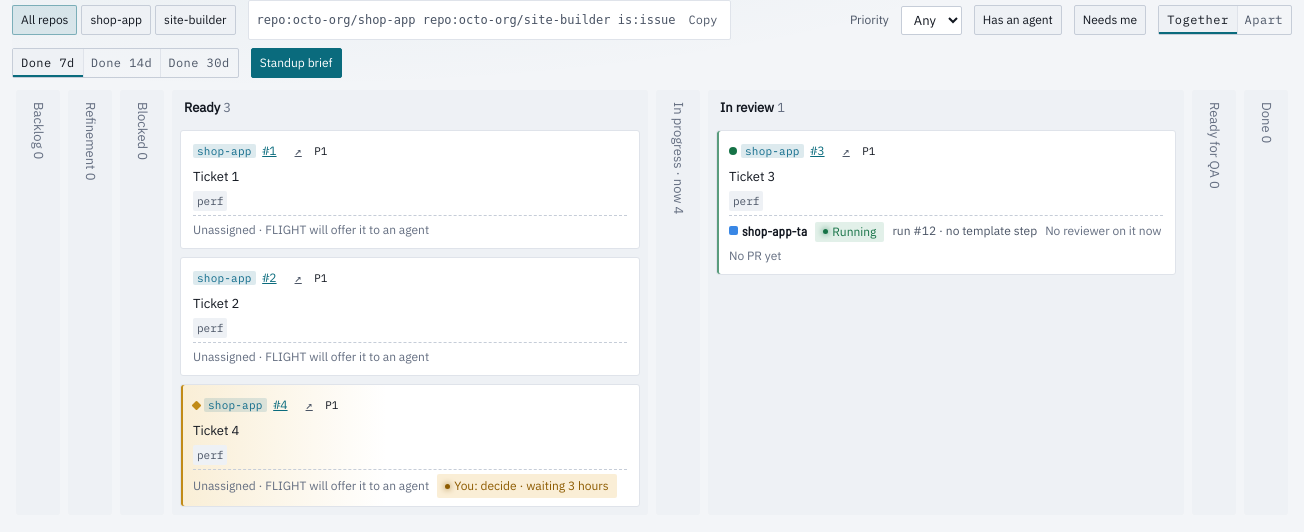
it: filters › Needs me excludes FLIGHT, controller and an agent's need outside In progress
Expected: the element showing "Backlog 0" is shown, x1=16 y1=90 x2=60 y2=515
Expected: the link "Ticket 4" is shown, x1=193 y1=422 x2=239 y2=439
Click the button "Needs me" at coordinates (1110, 20), box x1=1074 y1=5 x2=1146 y2=35
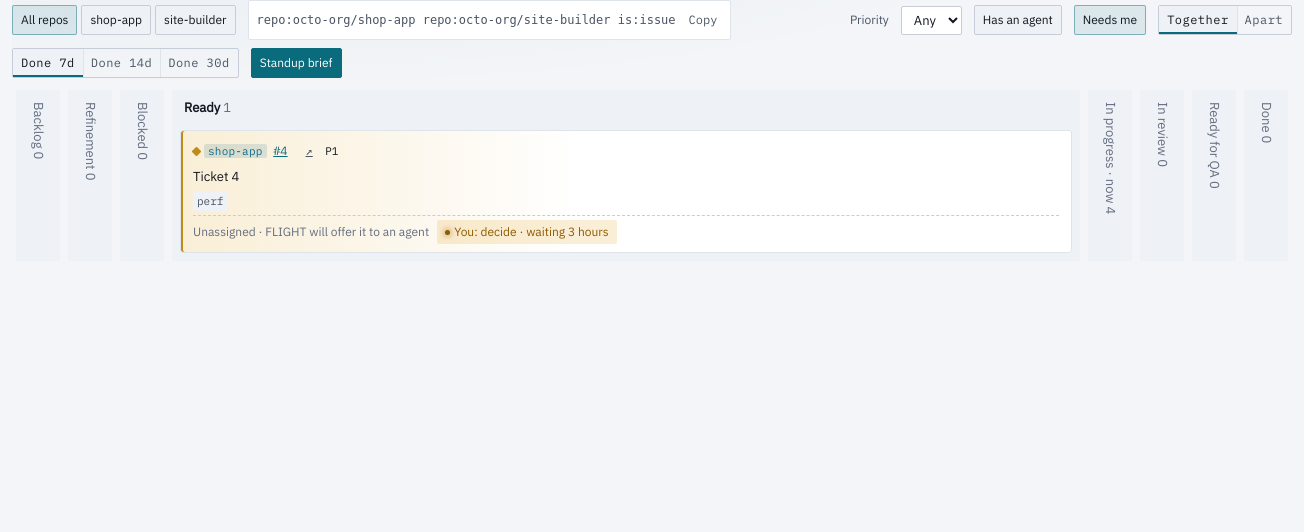
Expected: the link "Ticket 1" is gone
Expected: the link "Ticket 2" is gone
Expected: the link "Ticket 3" is gone
